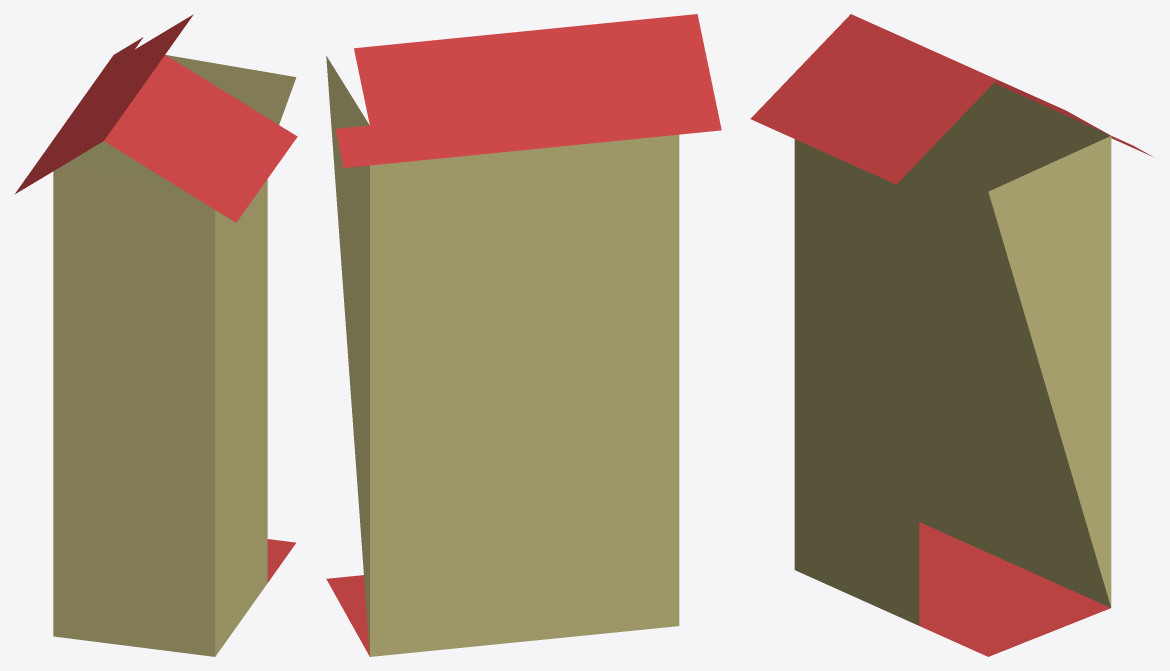
The picture shows the model from 3 angles, left to right: view 1: azimuth 30°, elevation 25°; view 2: azimuth 150°, elevation 25°; view 3: azimuth 270°, elevation 25°; orthographic projection. The views are drawn at different scales.
Size of the model in its own units: 5.82 by 6.45 by 9.04.
